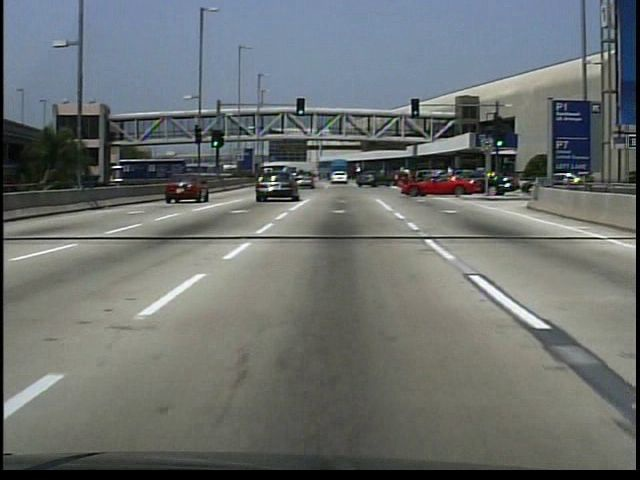person: (237, 126, 243, 137)
